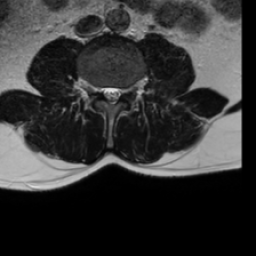CCS_normal: (108, 78, 114, 111)
LFS_stenosis: (122, 79, 129, 100)
LLS_normal: (114, 82, 122, 106)
RFS_stenosis: (92, 79, 101, 100)
RLS_stenosis: (101, 79, 108, 104)
